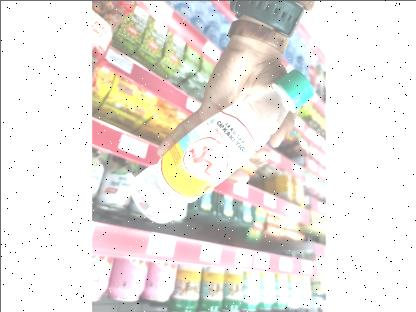Plastic Bottle: (120, 50, 326, 232)
